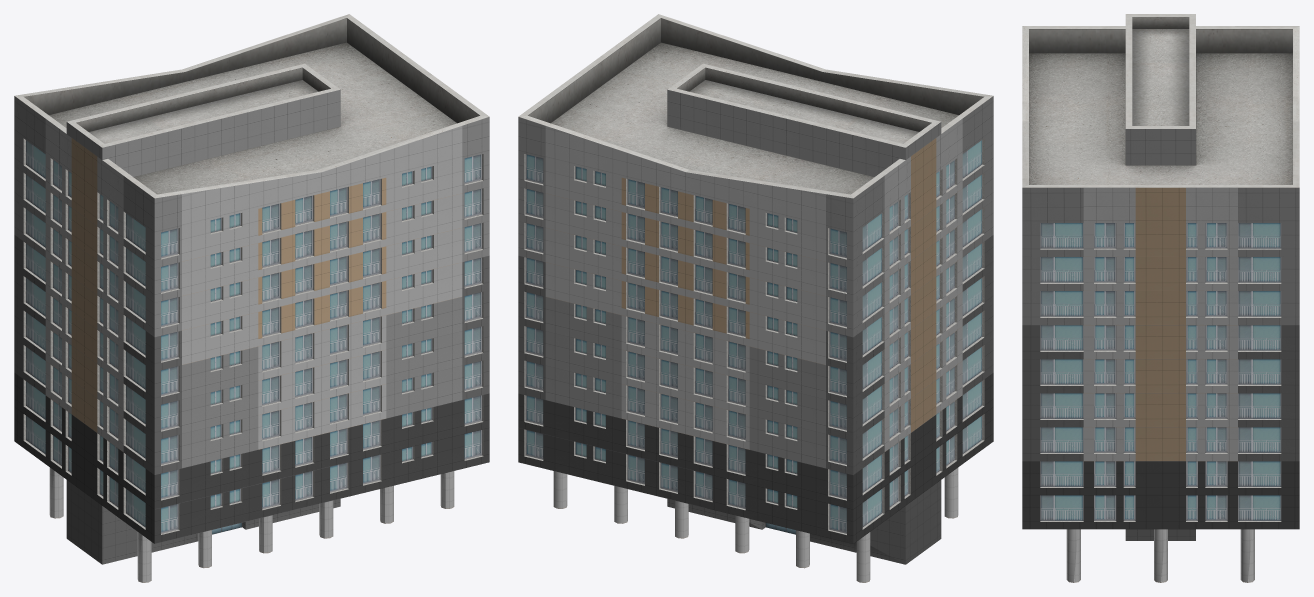
The picture shows the model from 3 angles, left to right: view 1: azimuth 30°, elevation 25°; view 2: azimuth 150°, elevation 25°; view 3: azimuth 270°, elevation 25°; orthographic projection.
Visible parts, largest first — view 1: MainBuilding; view 2: MainBuilding; view 3: MainBuilding.
Boxes of the visible parts, left/top/right/bottom form: MainBuilding: left=14, top=14, right=489, bottom=582; MainBuilding: left=518, top=14, right=993, bottom=582; MainBuilding: left=1022, top=14, right=1299, bottom=582.
Bounding box in the file's own units: 2.85 × 3.39 × 2.07.
Materials: 1 (1 with a texture image).
